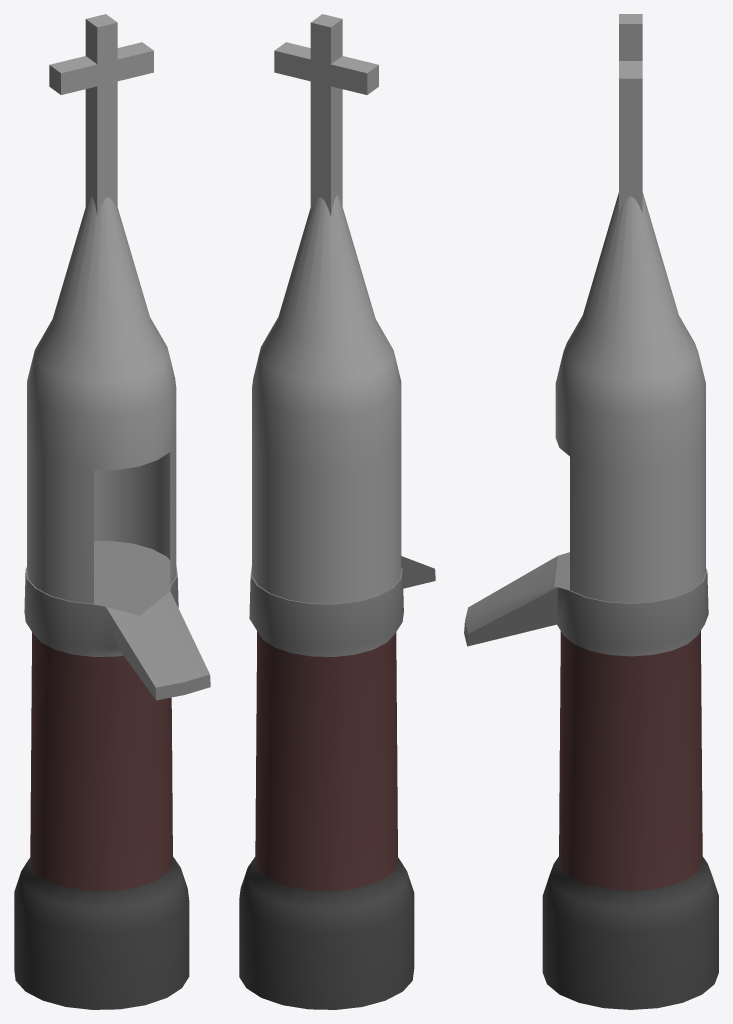
File: BoulderTower.fbx
3 renders of one model, left to right at view 1: azimuth 30°, elevation 25°; view 2: azimuth 150°, elevation 25°; view 3: azimuth 270°, elevation 25°, orthographic.
Parts seen in each view (by area): view 1: BoulderTower; view 2: BoulderTower; view 3: BoulderTower.
Boxes of the visible parts, x1,y1,x2,y2 form: BoulderTower: [14, 14, 210, 1009]; BoulderTower: [239, 14, 435, 1009]; BoulderTower: [464, 14, 718, 1009].
Bounding box in the file's own units: 10 × 59.71 × 14.46.
